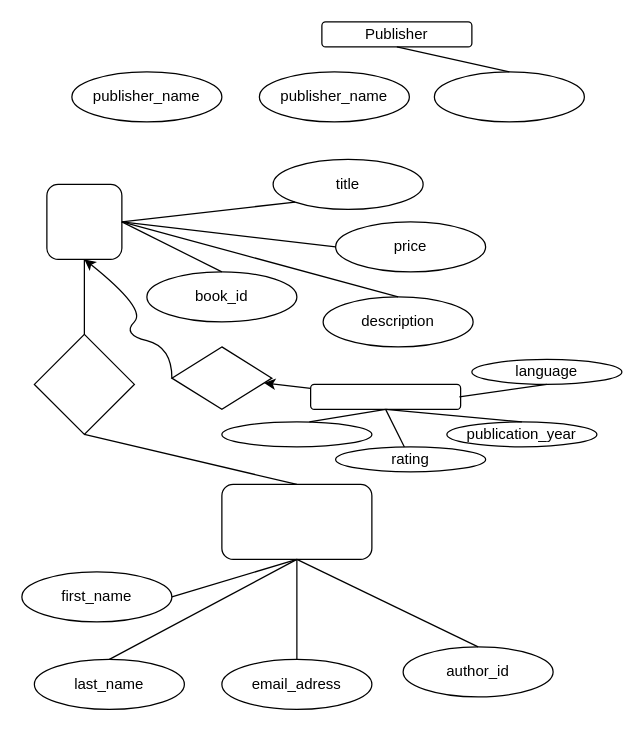
Image size: 644x731. Some labels were removed from this diagram. Each missing label, with the centre of its shape:
Author: point (296, 521)
Book: point (84, 221)
Book.Details: point (385, 396)
id: point (296, 434)
publisher_id: point (508, 96)
